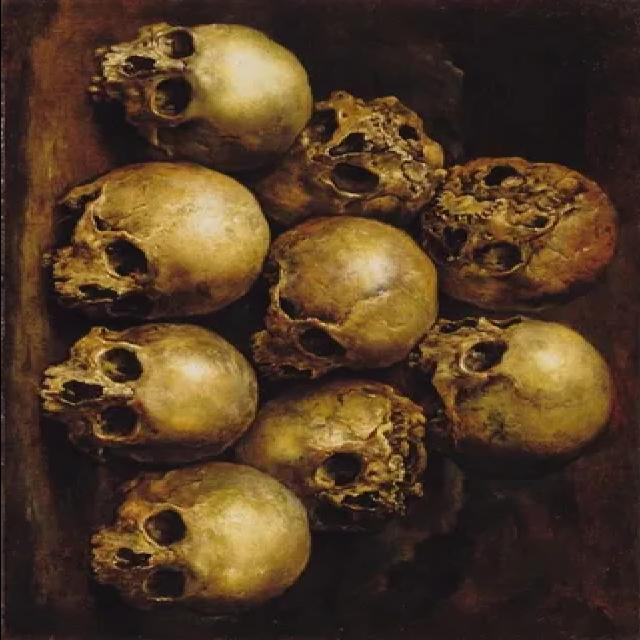skull: (66, 457, 314, 613), (90, 18, 308, 172)
